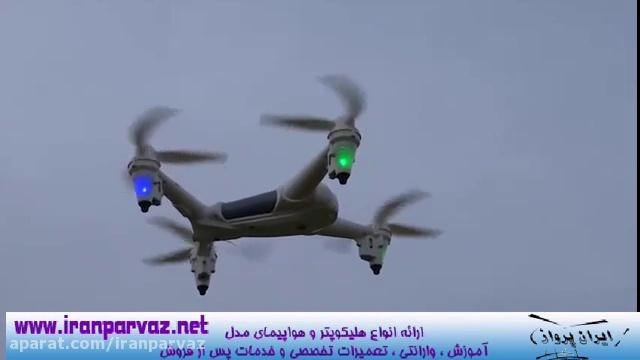drone: (108, 67, 448, 299)
